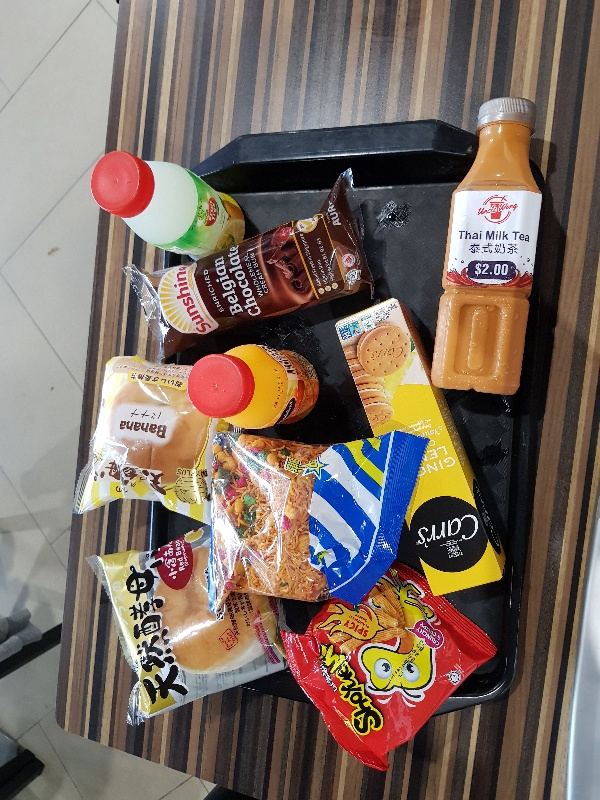Carr's Ginger Lemon Cremes: (333, 297, 506, 597)
Dayplus Banana: (75, 354, 212, 524)
Dayplus Red Bean: (86, 525, 287, 720)
Fruit Tree Yuzu Mixed Juice Drink: (91, 150, 247, 262)
ShoyueMi Spicy Flavoured Snacks: (281, 560, 497, 769)
Star Tidbits Mixer: (206, 430, 424, 609)
Sunkist Orange Juice Drink: (187, 343, 319, 430)
Sunshine Belgium Chocolate Wholemeal Cream Bun: (122, 174, 374, 359)
Thai Milk Tea: (427, 95, 543, 396)
